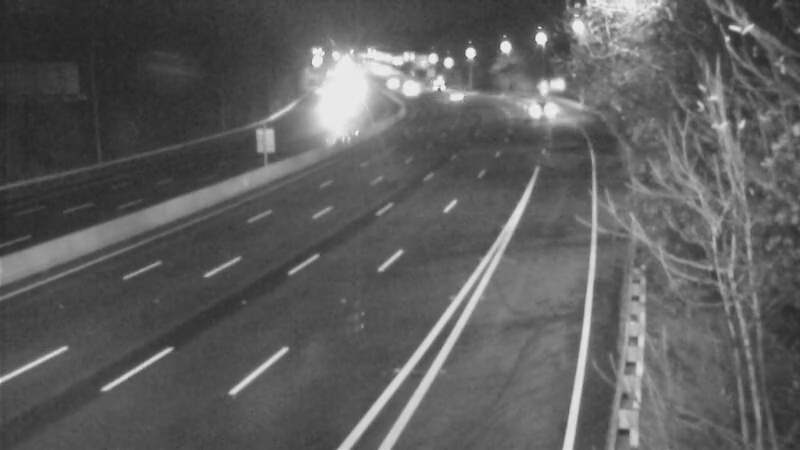vehicle: (412, 60, 462, 110), (362, 57, 412, 107), (389, 67, 439, 117), (428, 69, 478, 119), (515, 80, 565, 130), (304, 77, 354, 127)
